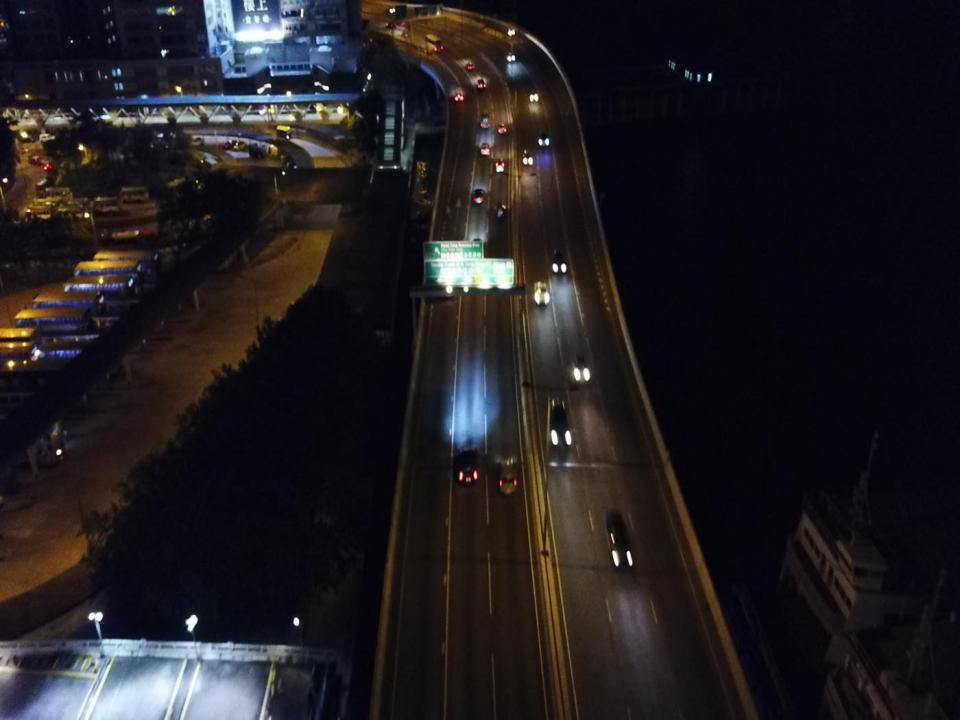bus: (0, 419, 64, 465), (15, 307, 93, 338), (33, 292, 107, 318), (64, 276, 136, 302), (92, 249, 158, 276), (74, 260, 141, 284), (0, 342, 42, 370), (0, 327, 40, 354), (120, 185, 149, 204), (92, 196, 119, 216), (55, 205, 86, 220), (45, 186, 73, 202), (25, 206, 54, 221), (31, 197, 60, 212), (35, 177, 53, 199), (64, 197, 90, 211), (424, 34, 442, 52), (276, 125, 292, 138), (481, 108, 490, 128)
car: (606, 509, 633, 570), (459, 445, 478, 483), (573, 356, 589, 384), (533, 280, 550, 304), (552, 250, 565, 274), (470, 238, 484, 258), (473, 188, 485, 204), (522, 149, 533, 164), (539, 130, 549, 146), (233, 140, 246, 152), (495, 157, 505, 172), (496, 202, 504, 219), (39, 134, 55, 142), (505, 51, 515, 62), (29, 156, 39, 166), (498, 122, 506, 134), (528, 90, 537, 100), (454, 92, 463, 102), (506, 27, 515, 36), (386, 20, 396, 28), (385, 6, 396, 13), (478, 80, 486, 88), (44, 163, 52, 171), (467, 62, 474, 70), (396, 19, 404, 26)
van: (550, 397, 570, 447), (499, 457, 516, 498), (481, 142, 490, 154)
